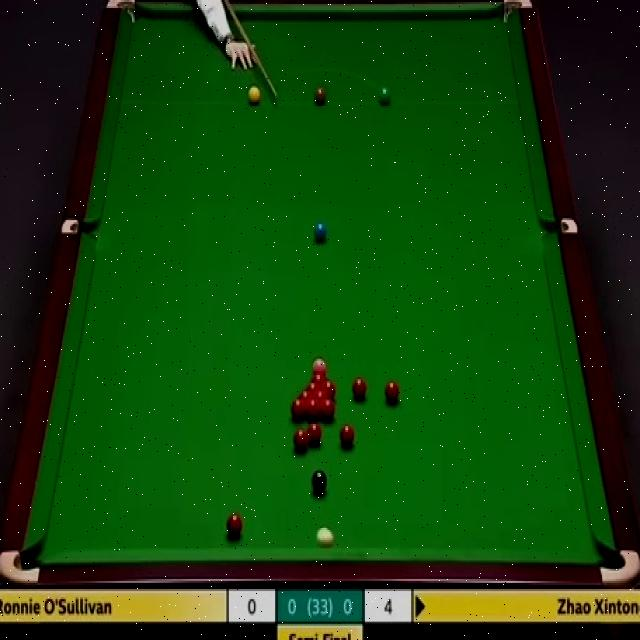black-ball: (312, 469, 328, 495)
blue-ball: (314, 223, 327, 239)
brown-ball: (313, 86, 328, 105)
green-ball: (378, 84, 392, 107)
pink-ball: (310, 358, 328, 376)
red-ball: (226, 513, 243, 536), (320, 380, 337, 403), (352, 376, 367, 400), (293, 430, 309, 451), (320, 398, 334, 422), (289, 397, 304, 419), (306, 423, 322, 443), (304, 398, 320, 418), (385, 383, 400, 403), (340, 425, 354, 446), (311, 373, 326, 388), (298, 389, 312, 402)
white-ball: (315, 526, 335, 548)
yellow-ball: (246, 86, 261, 106)
